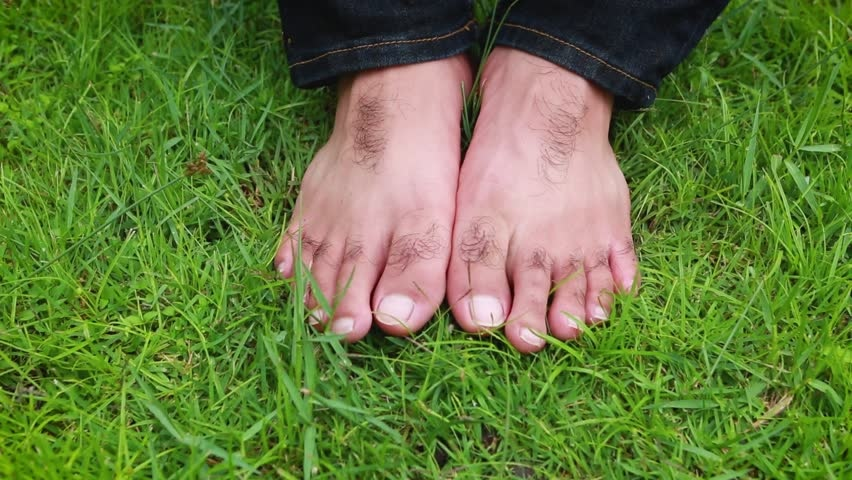feet: (264, 20, 482, 340), (470, 5, 638, 355)
